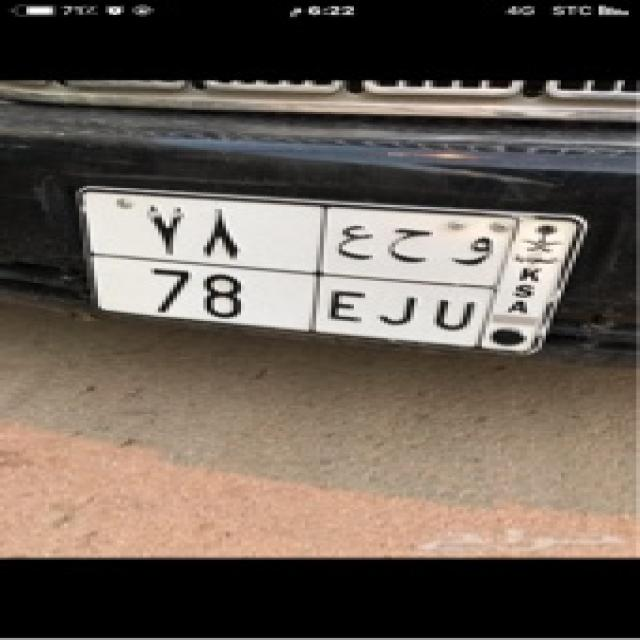license_plate: (71, 182, 595, 359)
